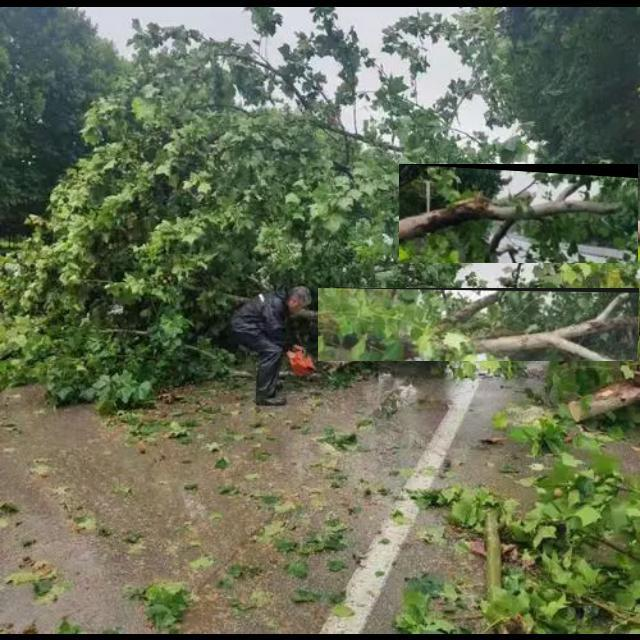fallen_tree: (399, 164, 639, 264), (318, 288, 640, 362)
